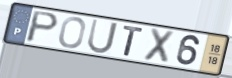6: (175, 34, 201, 67)
O: (57, 16, 88, 50)
P: (24, 10, 61, 44)
T: (121, 24, 146, 58)
U: (85, 18, 119, 55)
X: (141, 26, 177, 66)
